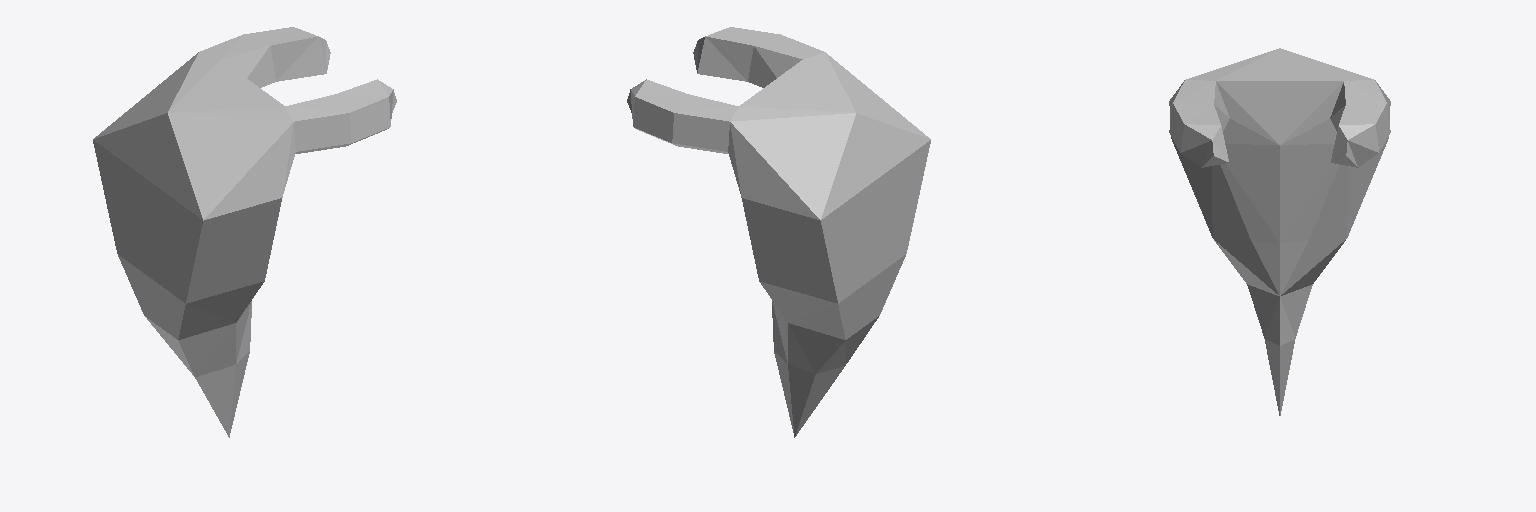
Rendered from wraithHitbox.obj.
The picture shows the model from 3 angles: view 1: azimuth 30°, elevation 25°; view 2: azimuth 150°, elevation 25°; view 3: azimuth 270°, elevation 25°; orthographic projection.
Visible parts, largest first — view 1: Cube; view 2: Cube; view 3: Cube.
Part boxes in pixels (x1,y1,x2,y2): Cube: (93,27,396,437); Cube: (627,27,930,437); Cube: (1169,48,1390,415).
Bounding box in the file's own units: 0.7065 × 1.1 × 0.6279.